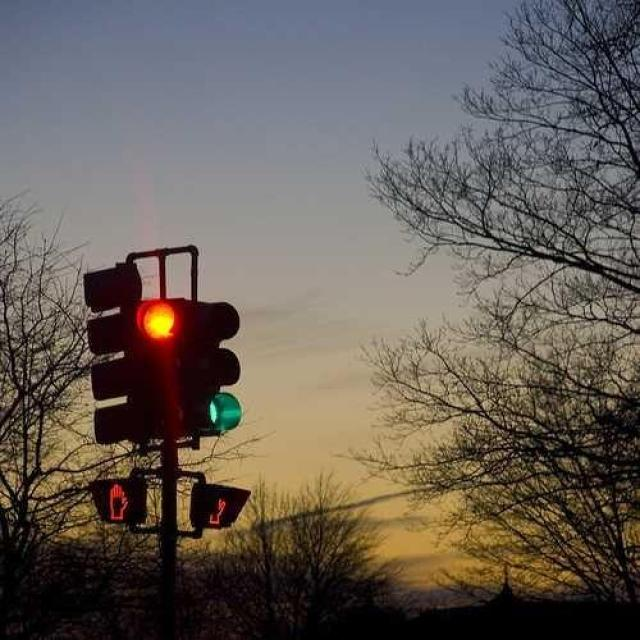Traffic Light -Green-: (190, 297, 252, 440)
Traffic Light -Red-: (130, 292, 200, 443)
